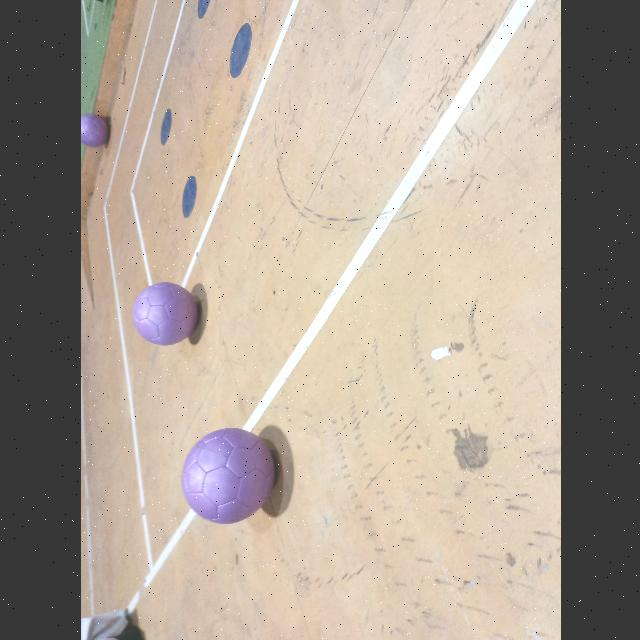P: (180, 428, 274, 524), (132, 283, 196, 345), (80, 114, 108, 148)
